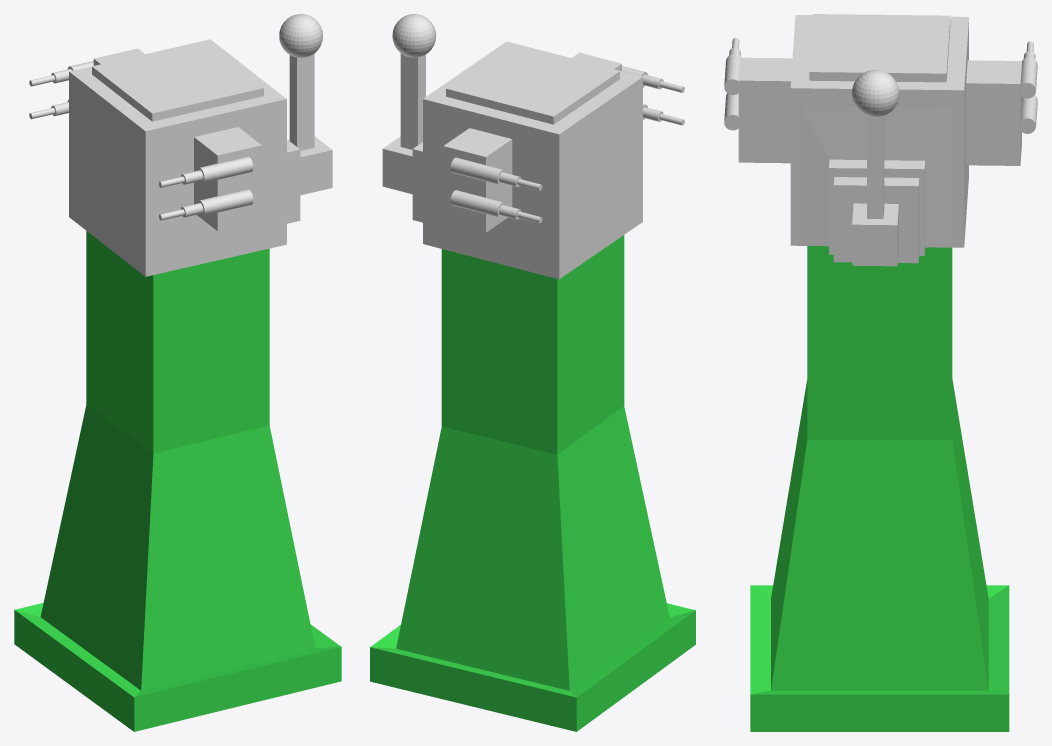
Rendered from machine_gun_toranj.fbx.
The picture shows the model from 3 angles, left to right: view 1: azimuth 30°, elevation 25°; view 2: azimuth 150°, elevation 25°; view 3: azimuth 270°, elevation 25°; orthographic projection. The views are drawn at different scales.
Parts seen in each view (by area): view 1: Stub, Kupola, topni_drzac, topovi; view 2: Stub, Kupola, topni_drzac, topovi; view 3: Stub, Kupola, topni_drzac, topovi.
Boxes of the visible parts, x1,y1,x2,y2 form: Stub: [14, 231, 341, 731]; Kupola: [69, 14, 332, 276]; topni_drzac: [93, 48, 261, 231]; topovi: [29, 61, 253, 220]; Stub: [370, 235, 695, 731]; Kupola: [382, 14, 642, 279]; topni_drzac: [443, 52, 621, 232]; topovi: [450, 66, 684, 223]; Stub: [750, 246, 1009, 731]; Kupola: [790, 14, 968, 266]; topni_drzac: [738, 57, 1021, 165]; topovi: [724, 37, 1037, 133].
Size of the model in its own units: 238 by 570 by 242.
